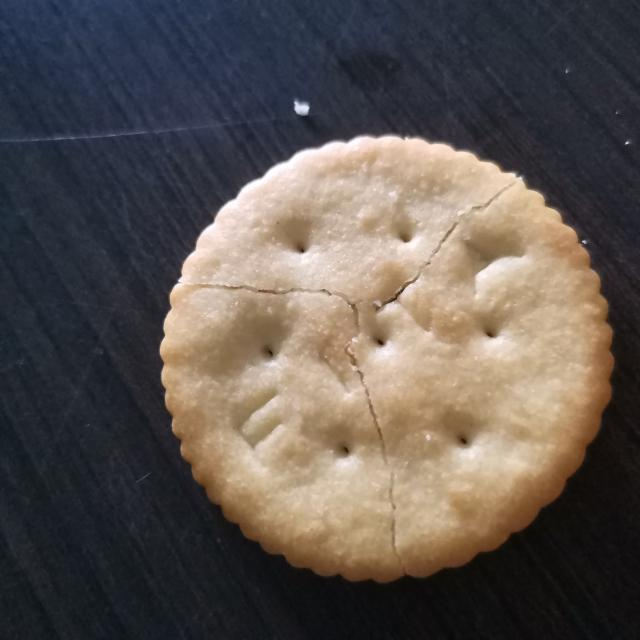Fracture: (166, 173, 528, 574)
